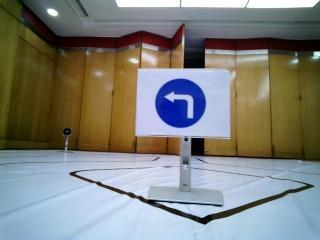left: (139, 68, 227, 139)
